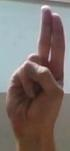U: (2, 2, 68, 143)
